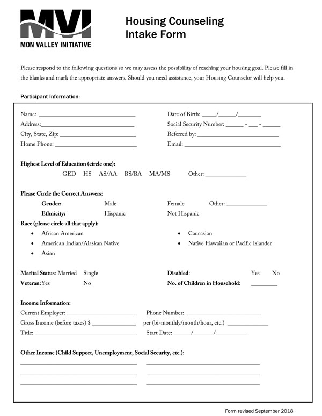textline: (19, 356, 139, 367), (19, 376, 138, 386), (146, 357, 261, 367), (146, 376, 261, 386), (19, 367, 138, 376), (146, 368, 262, 377), (35, 327, 138, 336), (184, 139, 281, 147), (173, 326, 249, 336), (41, 119, 135, 127), (39, 110, 137, 117), (54, 140, 138, 148), (198, 130, 280, 138), (59, 129, 137, 137), (226, 118, 282, 128), (201, 108, 262, 117), (67, 309, 138, 316), (185, 310, 263, 316), (92, 318, 138, 326), (227, 318, 270, 326), (215, 327, 249, 336), (226, 200, 269, 207), (205, 170, 247, 177), (250, 277, 279, 287), (193, 327, 213, 337), (239, 110, 262, 118), (173, 327, 191, 336), (219, 109, 236, 118), (226, 120, 245, 128), (262, 120, 281, 128), (202, 109, 216, 117), (248, 120, 259, 128)
